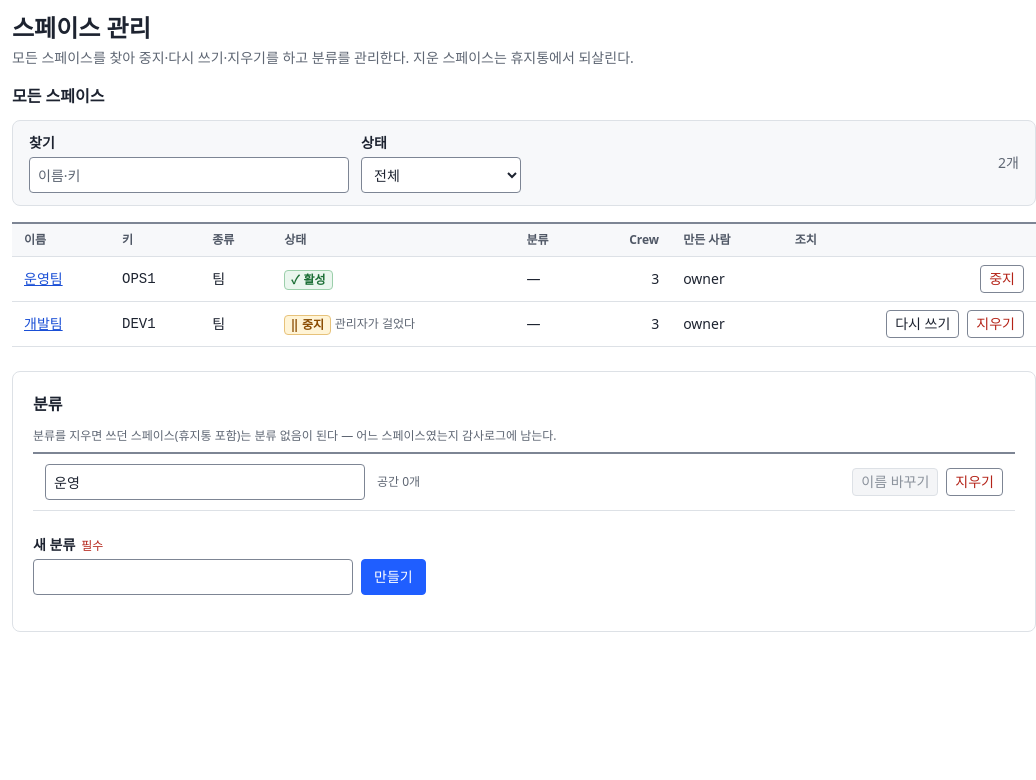
Scenario: AdminSpacesPage — 모든 스페이스 › **늦게 온 옛 응답은 버린다** — 마지막 찾기만 받는다
This screenshot has width=1036, height=780.
Expected: the link "운영팀" is shown, [24, 269, 63, 288]
In the search field: (189, 175) [29, 157, 349, 193], type "운영"
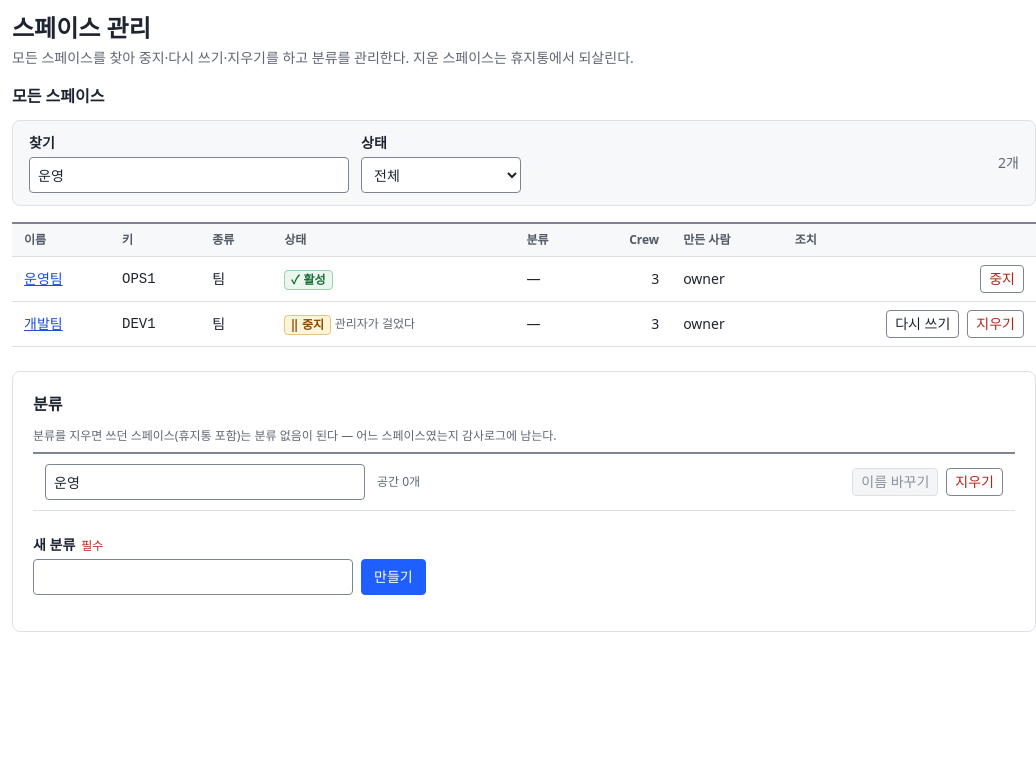
Replace the text in the search field with "개발": (189, 175) [29, 157, 349, 193]
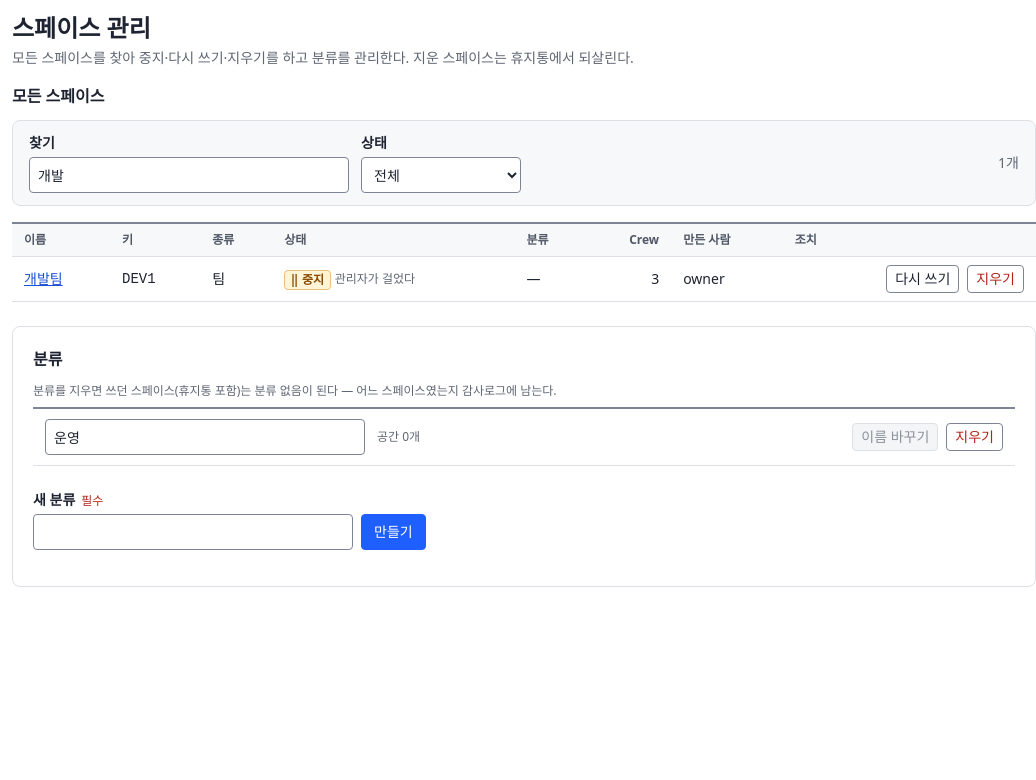
Expected: the link "개발팀" is shown, [24, 269, 63, 288]
Result: the link "운영팀" is gone
